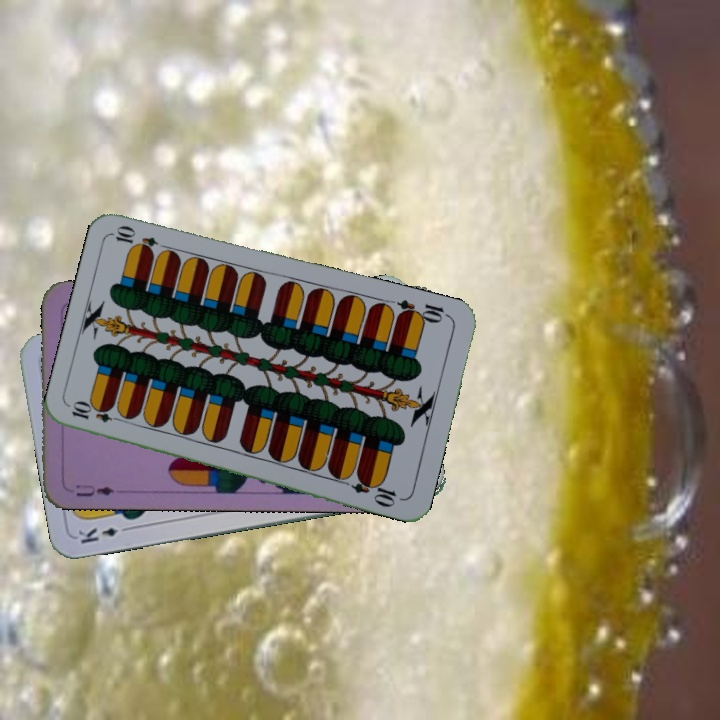E10: (393, 295, 452, 326), (68, 400, 127, 426)
EK: (74, 522, 133, 547)
EU: (71, 481, 116, 499)
